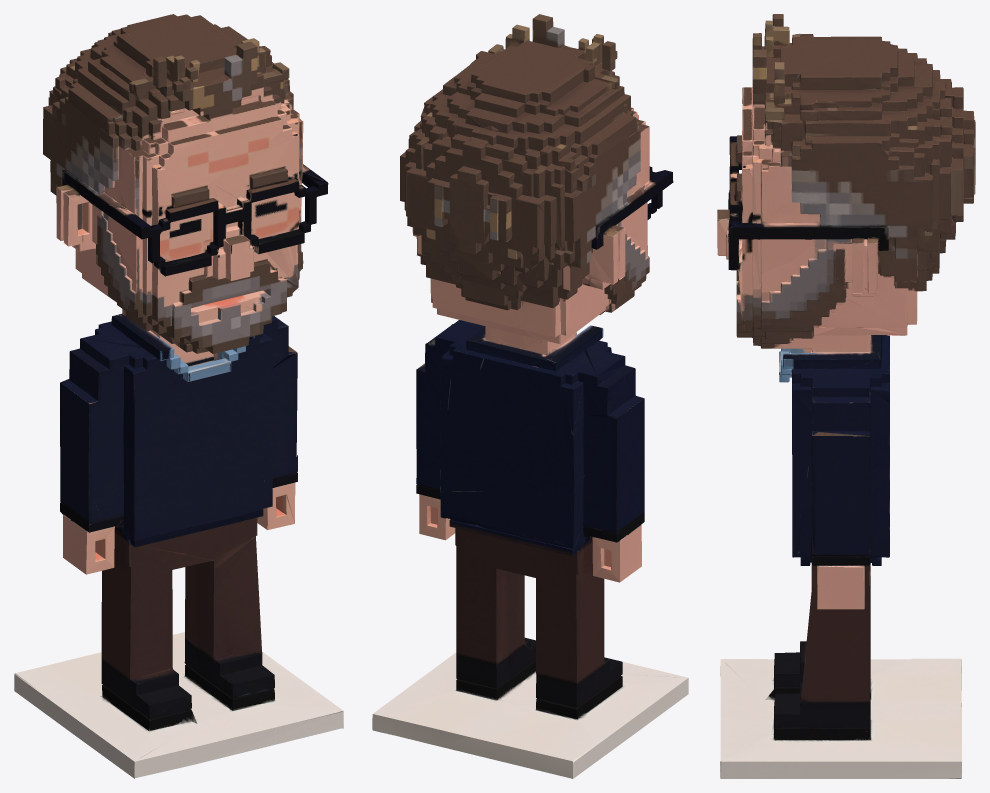
File: charles.glb
3 views of the same model, side by side, from view 1: azimuth 30°, elevation 25°; view 2: azimuth 150°, elevation 25°; view 3: azimuth 270°, elevation 25° (orthographic). The views are drawn at different scales.
Size of the model in its own units: 0.6077 by 1.9 by 0.6467.
Materials: 1 (1 with a texture image).
